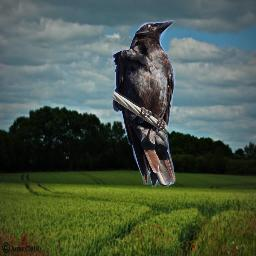Crow: (112, 19, 176, 187)
